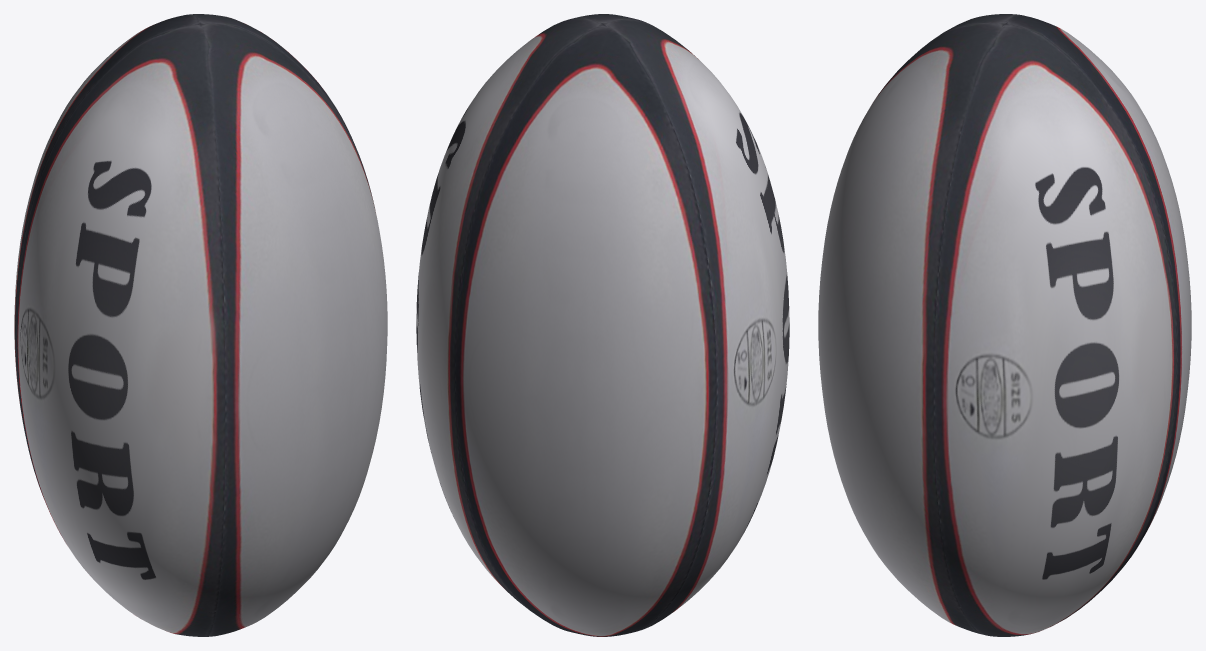
Rendered from rugby_ball.obj.
3 renders of one model, left to right at view 1: azimuth 30°, elevation 25°; view 2: azimuth 150°, elevation 25°; view 3: azimuth 270°, elevation 25°, orthographic.
Parts seen in each view (by area): view 1: rugby_10525_Rugby_Ball_v1_L3; view 2: rugby_10525_Rugby_Ball_v1_L3; view 3: rugby_10525_Rugby_Ball_v1_L3.
Part boxes in pixels (x1,y1,x2,y2): rugby_10525_Rugby_Ball_v1_L3: (14, 14, 387, 636); rugby_10525_Rugby_Ball_v1_L3: (416, 14, 789, 636); rugby_10525_Rugby_Ball_v1_L3: (818, 14, 1191, 636).
Size of the model in its own units: 0.696 by 1.24 by 0.696.
Materials: 1 (1 with a texture image).
